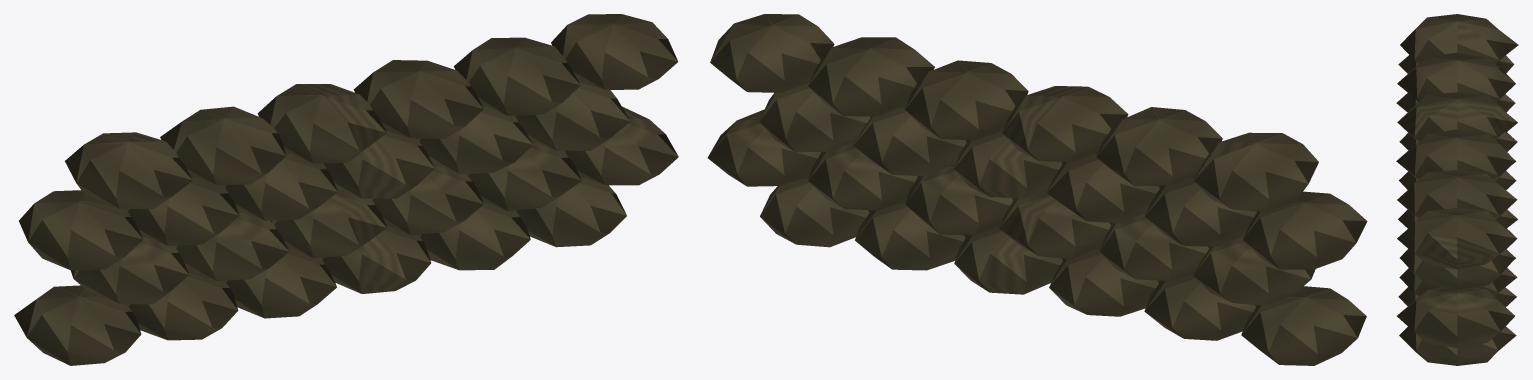
File: prop_hesko_bastion_a.glb
3 views of the same model, side by side, from view 1: azimuth 30°, elevation 25°; view 2: azimuth 150°, elevation 25°; view 3: azimuth 270°, elevation 25° (orthographic). The views are drawn at different scales.
Visible parts, largest first — view 1: prop_hesko_bastion_a; view 2: prop_hesko_bastion_a; view 3: prop_hesko_bastion_a.
Part boxes in pixels (bbox=[...]): prop_hesko_bastion_a: bbox=[14, 14, 678, 365]; prop_hesko_bastion_a: bbox=[707, 14, 1367, 365]; prop_hesko_bastion_a: bbox=[1396, 14, 1518, 365].
Bounding box in the file's own units: 4.09 × 1.22 × 0.8311.
1 material, 1 textured.
